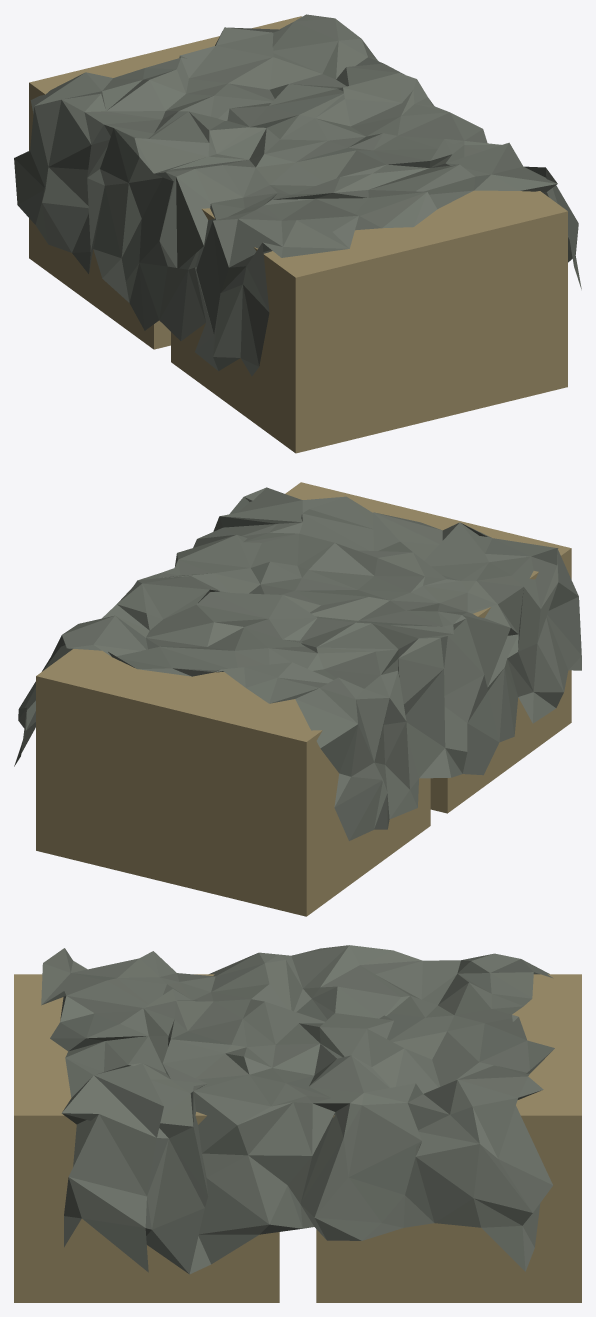
File: small-piece-load.dae
3 views of the same model, one above another, from view 1: azimuth 30°, elevation 25°; view 2: azimuth 150°, elevation 25°; view 3: azimuth 270°, elevation 25° (orthographic). The views are drawn at different scales.
Parts seen in each view (by area): view 1: Plane, Cube_001, Cube_002; view 2: Plane, Cube_002, Cube_001; view 3: Plane, Cube_002, Cube_001.
Part boxes in pixels (x1,y1,x2,y2): Plane: (14, 14, 581, 376); Cube_001: (171, 190, 567, 453); Cube_002: (29, 16, 301, 349); Plane: (14, 487, 581, 840); Cube_002: (36, 649, 430, 916); Cube_001: (285, 482, 571, 813); Plane: (41, 945, 554, 1274); Cube_002: (316, 974, 581, 1302); Cube_001: (14, 974, 279, 1302).
Bounding box in the file's own units: 1.35 × 1.74 × 0.7236.
